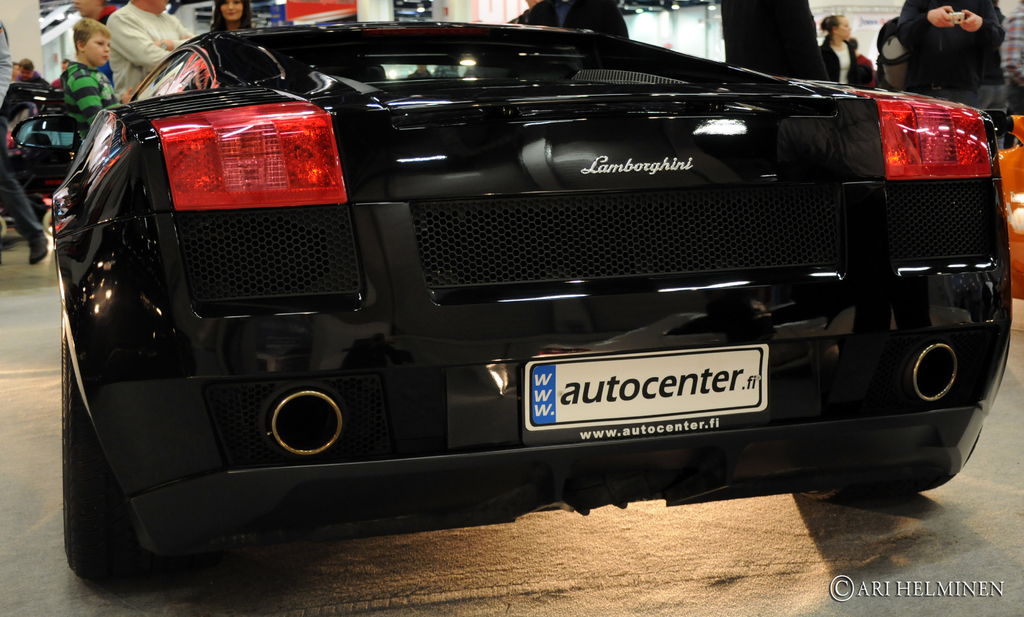Person: (0, 0, 1023, 265)
